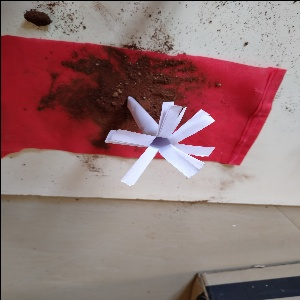weed: (97, 86, 214, 188)
